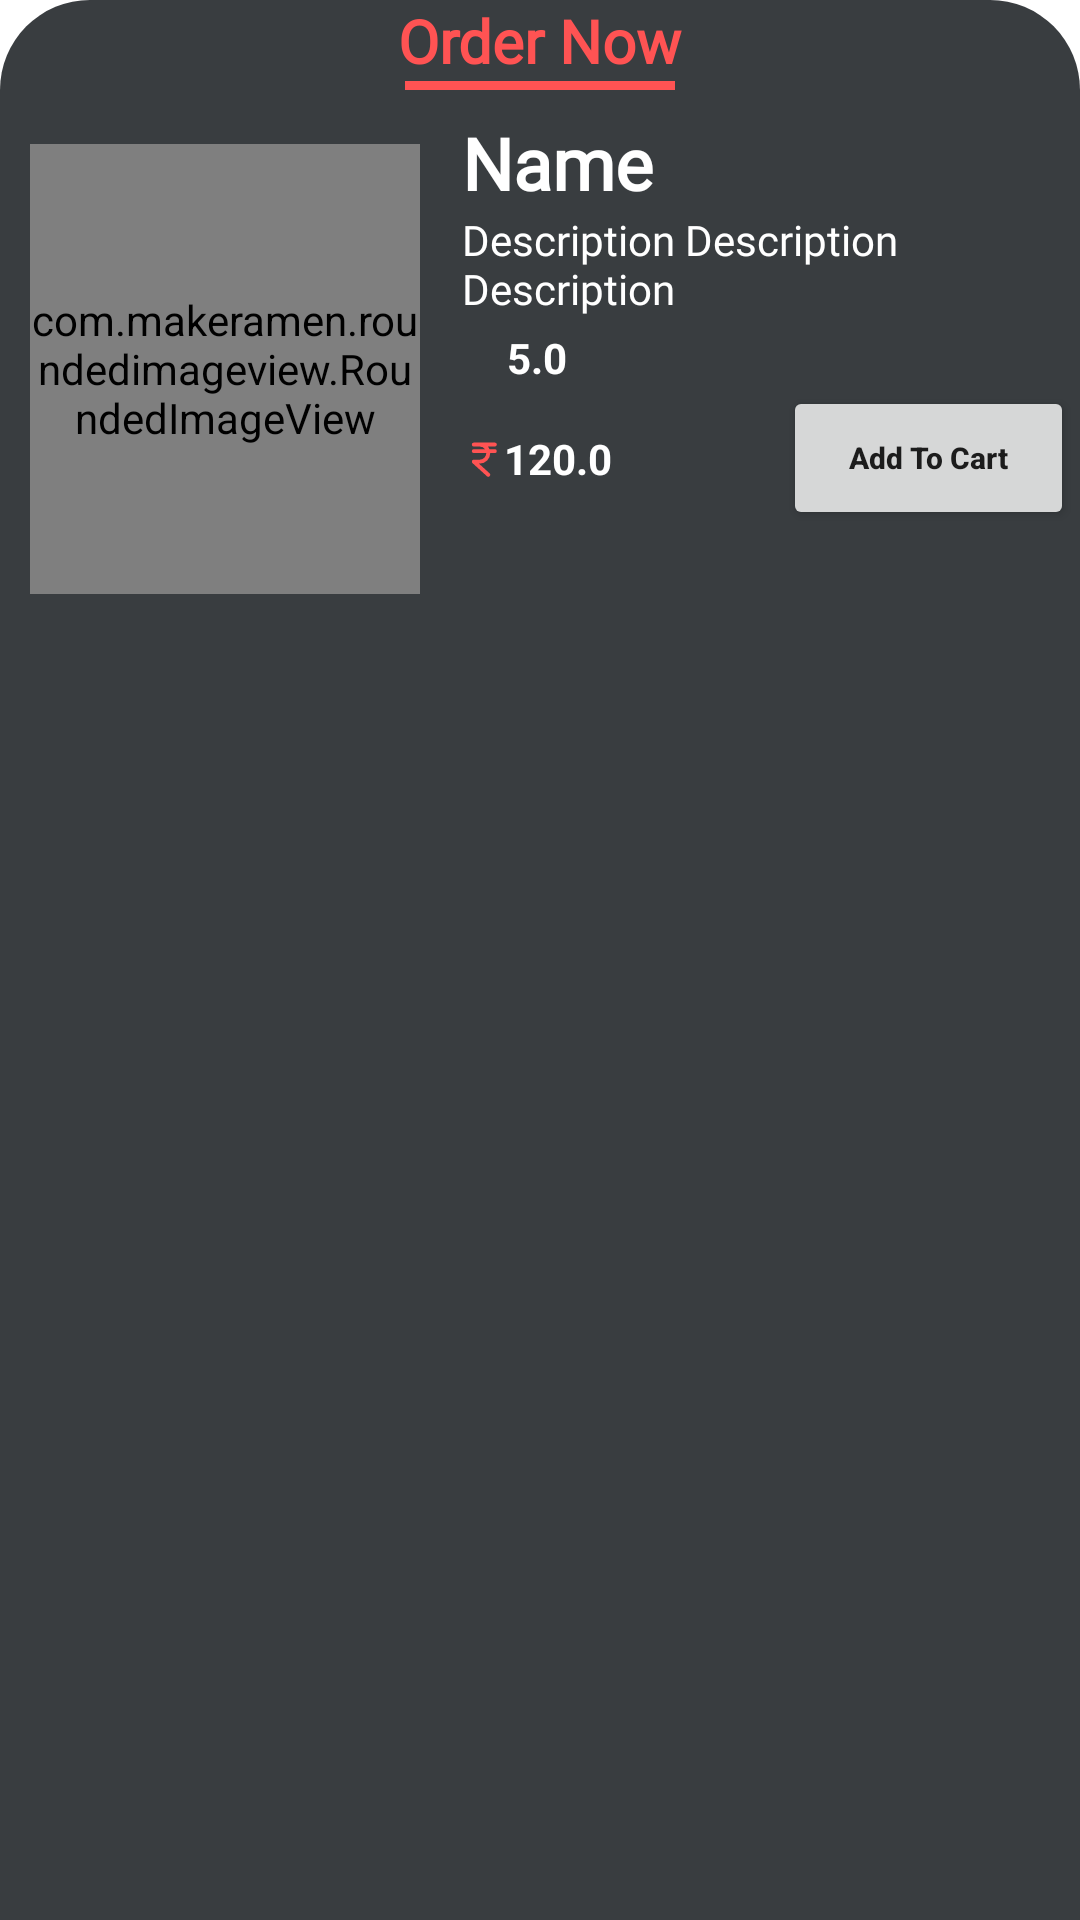

Icons on this 1080 x 1920 Android screen, each with its box as (x1=x1, y1=y1, x2=x2, y2=y2):
inr: (x1=472, y1=442, x2=497, y2=477)
